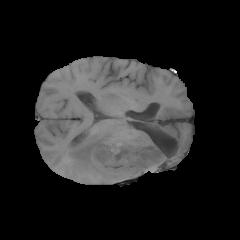glioma: (67, 118, 183, 180)
